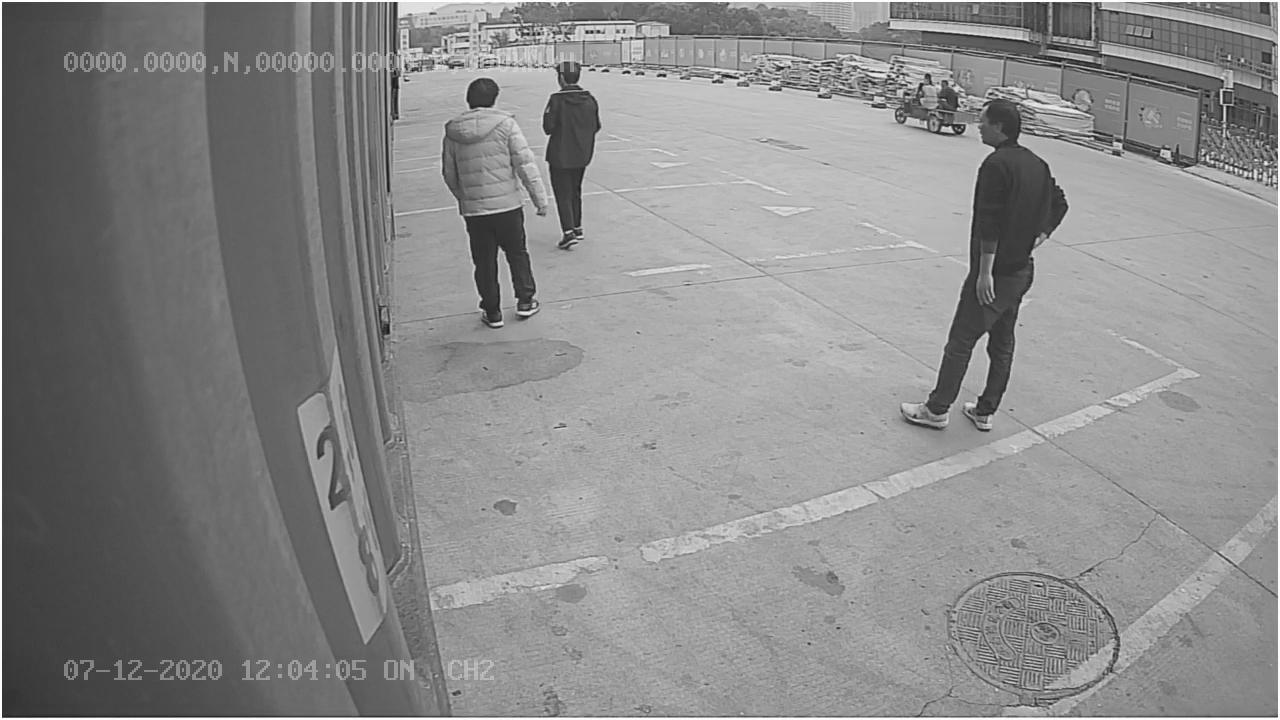person: (899, 99, 1068, 434), (433, 79, 550, 326)
